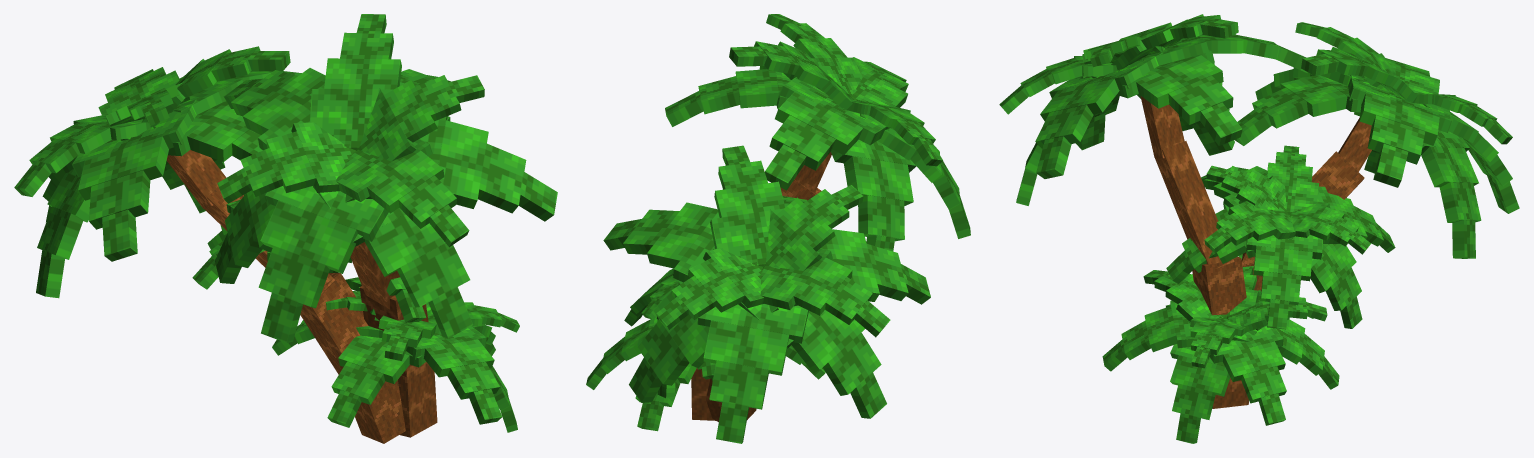
The model's file is Tree2.fbx.
The picture shows the model from 3 angles, left to right: view 1: azimuth 30°, elevation 25°; view 2: azimuth 150°, elevation 25°; view 3: azimuth 270°, elevation 25°; orthographic projection. The views are drawn at different scales.
Parts seen in each view (by area): view 1: Cube.002, Cube.008, Cube.007, Cube.004, Cube.001, Cube.003; view 2: Cube.008, Cube.002, Cube.007, Cube.001, Cube.003, Cube.004; view 3: Cube.008, Cube.002, Cube.003, Cube.007, Cube.001, Cube.004.
Boxes of the visible parts, x1,y1,x2,y2 form: Cube.002: (215, 14, 557, 342); Cube.008: (14, 46, 301, 298); Cube.007: (272, 277, 519, 432); Cube.004: (166, 150, 419, 443); Cube.001: (350, 242, 437, 437); Cube.003: (192, 194, 426, 322); Cube.008: (603, 145, 930, 443); Cube.002: (665, 14, 970, 251); Cube.007: (586, 315, 825, 431); Cube.001: (691, 152, 831, 420); Cube.003: (624, 268, 715, 398); Cube.004: (706, 378, 756, 421); Cube.008: (1234, 22, 1519, 258); Cube.002: (999, 14, 1307, 205); Cube.003: (1166, 145, 1395, 329); Cube.007: (1102, 254, 1339, 443); Cube.001: (1140, 96, 1248, 408); Cube.004: (1241, 117, 1371, 291).
Bounding box in the file's own units: 627 × 625 × 797.
